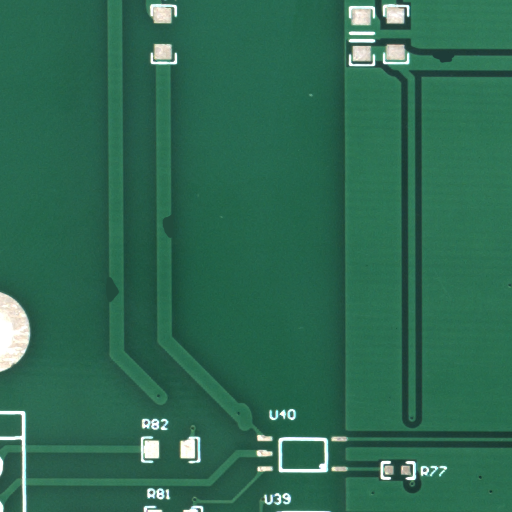Mouse_bite: (112, 287, 135, 333), (444, 56, 476, 76), (167, 226, 184, 258)
